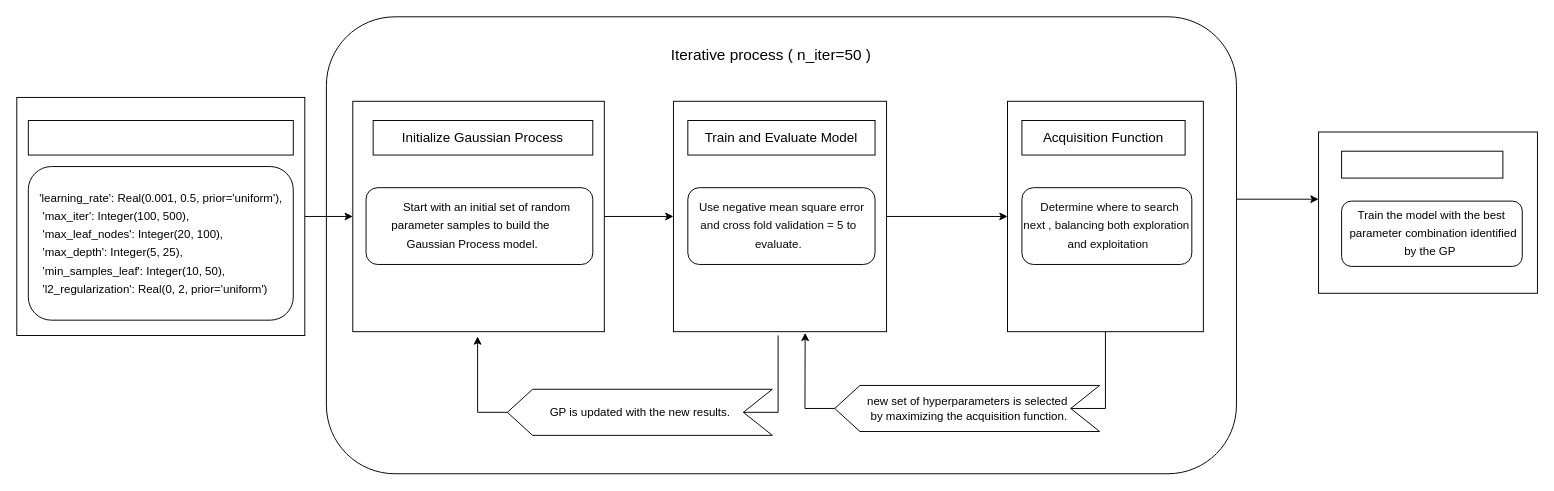
Some shapes in this 1554 by 491 pixel diagram are drawn without their labels. The box of each missing label's shape, as (x1, y1, x2, y2) in pixels:
Define Parameter Grid: (27, 120, 293, 155)
Prediction: (1341, 150, 1503, 178)
